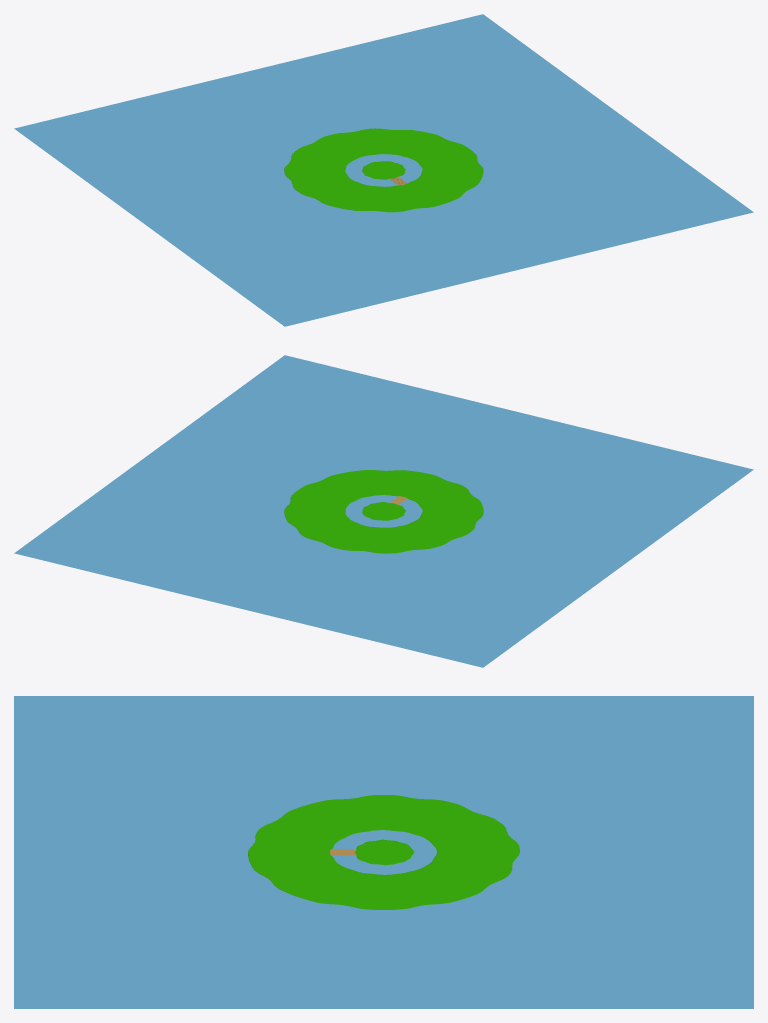
The picture shows the model from 3 angles, top to bottom: view 1: azimuth 30°, elevation 25°; view 2: azimuth 150°, elevation 25°; view 3: azimuth 270°, elevation 25°; orthographic projection. The views are drawn at different scales.
Parts seen in each view (by area): view 1: Water, Island; view 2: Water, Island; view 3: Water, Island.
Part boxes in pixels (<box>): Water: <box>14,14,753,326</box>; Island: <box>284,128,483,212</box>; Water: <box>14,355,753,667</box>; Island: <box>284,470,483,553</box>; Water: <box>14,696,753,1008</box>; Island: <box>248,795,519,909</box>.
Size of what is drawn, in the model's own units: 400 by 20.13 by 400.
